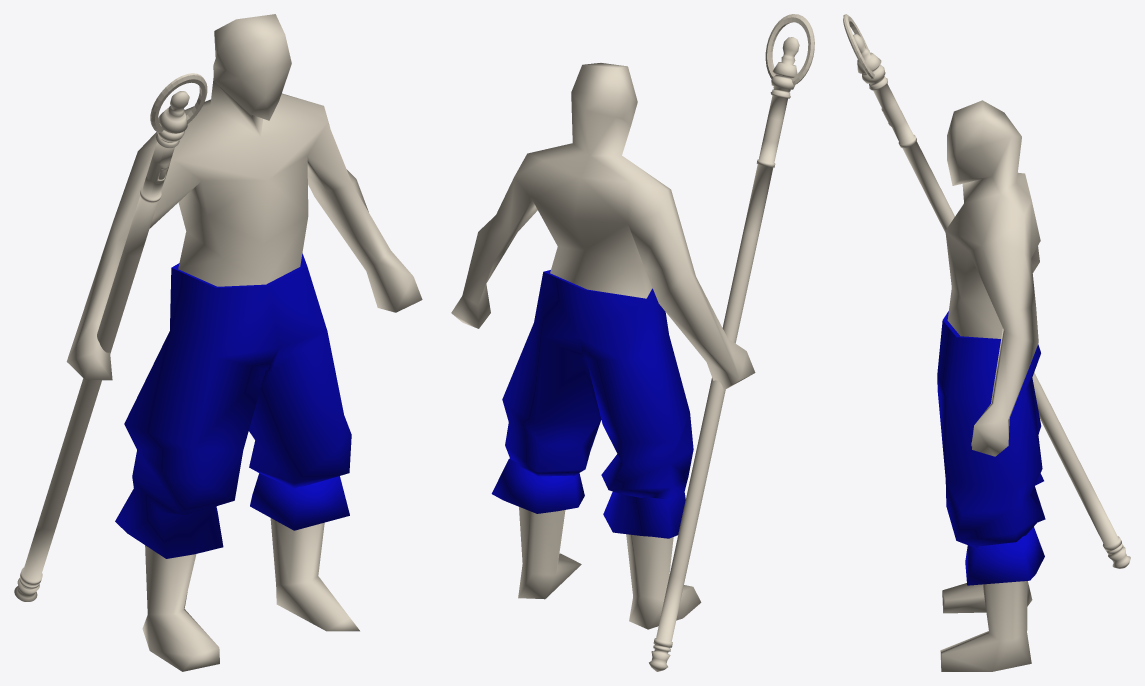
File: GuérisseurAllié.fbx
3 renders of one model, left to right at view 1: azimuth 30°, elevation 25°; view 2: azimuth 150°, elevation 25°; view 3: azimuth 270°, elevation 25°, orthographic. The views are drawn at different scales.
Parts seen in each view (by area): view 1: Circle; view 2: Circle; view 3: Circle.
Part boxes in pixels (x1,y1,x2,y2): Circle: (14,14,422,671); Circle: (451,14,814,671); Circle: (843,14,1130,671).
Bounding box in the file's own units: 107 × 199 × 92.69.
